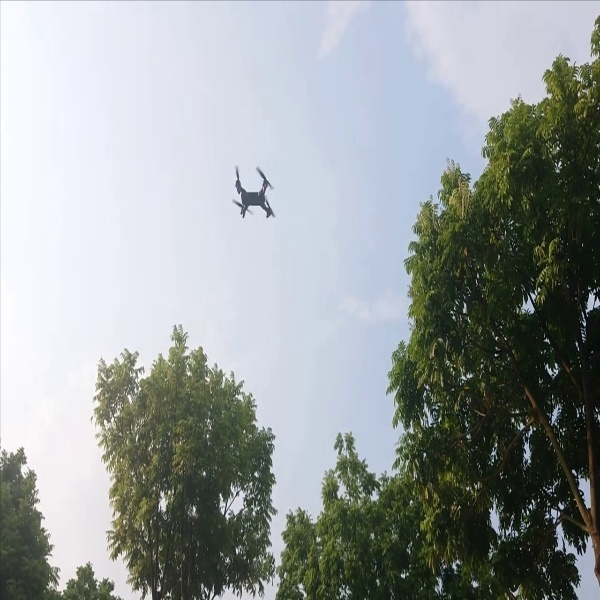drone: (225, 157, 283, 224)
